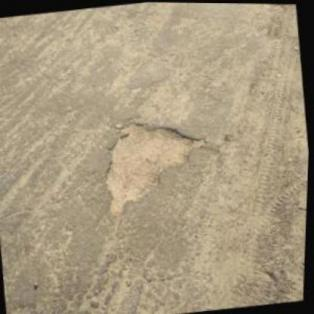Hueco: (95, 113, 217, 215)
